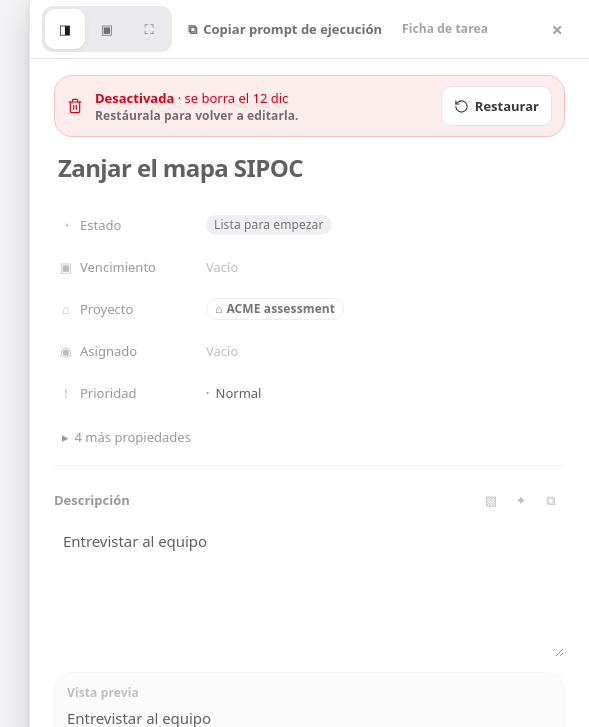
ficha de una tarea desactivada › muestra el banner con la fecha de borrado, deja todo en solo lectura y restaura
Check: the message with test id "task-desactivada-banner" shows "Desactivada", box [95,89,174,107]
Click the button with test id "task-restaurar": [496, 106] box [441,86,552,126]
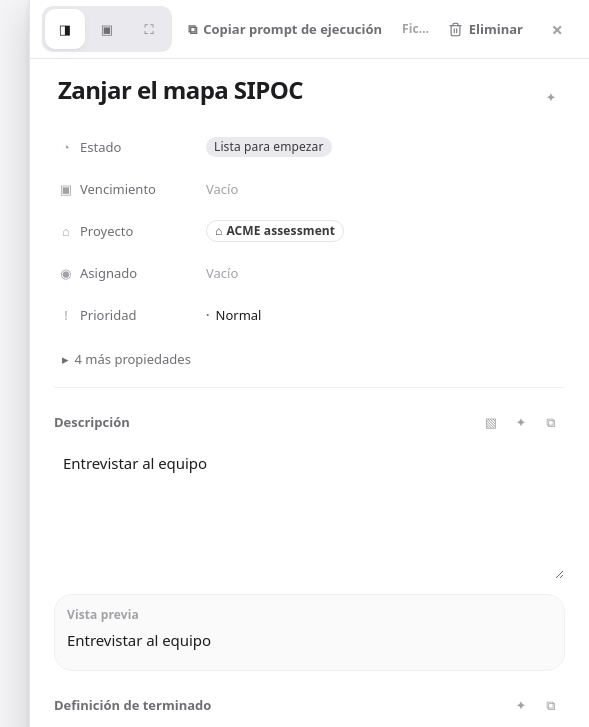
Check: the message with test id "task-desactivada-banner" is gone
Check: the button with test id "task-eliminar" is shown, box [438,9,533,49]
